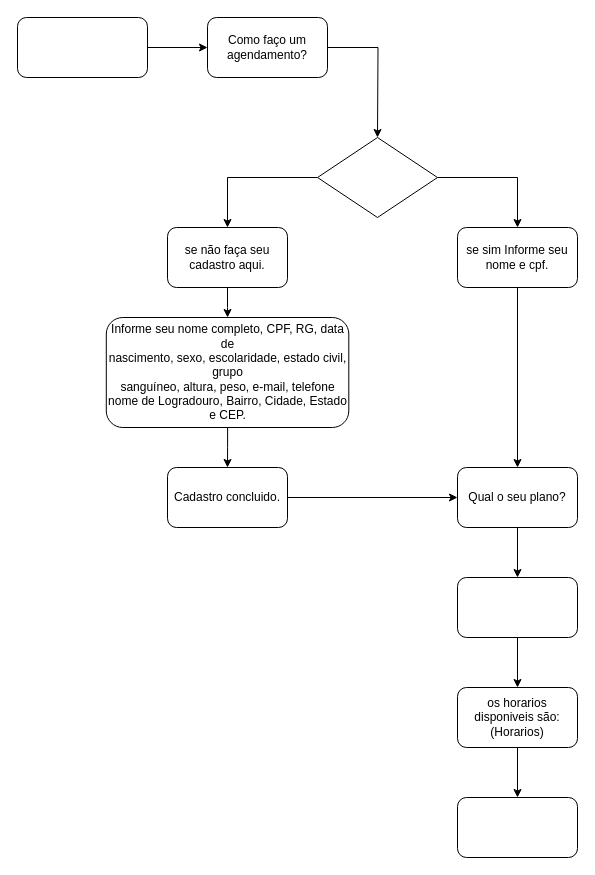
Image size: 595x875. Some labels were removed from this diagram. Each missing label, with the box of its shape:
As datas disponiveis são: (Datas): (456, 576, 578, 638)
Bem vindo ao assistente de agendamente de consulta: (16, 16, 148, 78)
sua consulta foi marcada com sucesso.: (456, 796, 578, 858)
você tem cadastro?: (316, 136, 438, 218)
